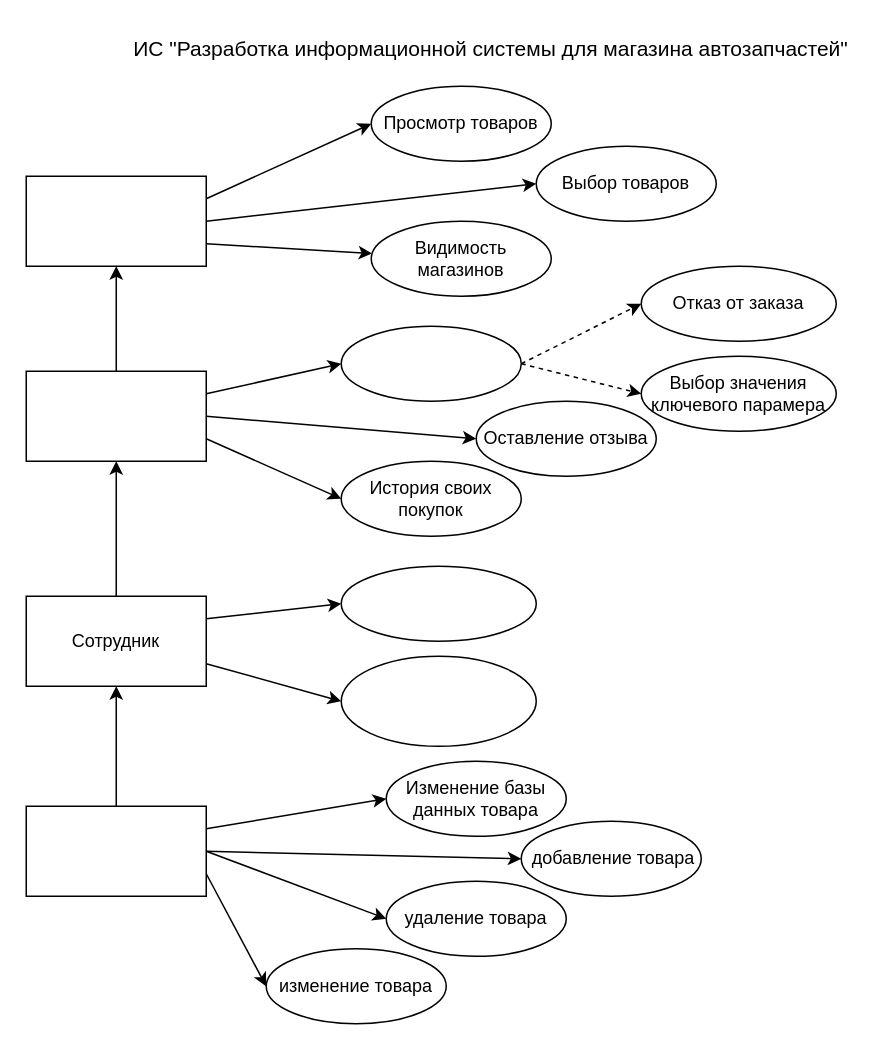
This 893x1050 diagram has some shape labels left out. Here are the shapes that lost their labels. From the top down, the box of each, then its label:
(25, 175, 206, 266): Неавторизованный пользователь
(340, 325, 521, 401): Оформление заказа
(25, 370, 206, 461): Авторизованный пользователь
(340, 565, 536, 641): Сопровождение заказа
(340, 655, 536, 746): Подтверждение оплаты по договору
(25, 805, 206, 896): Администратор
